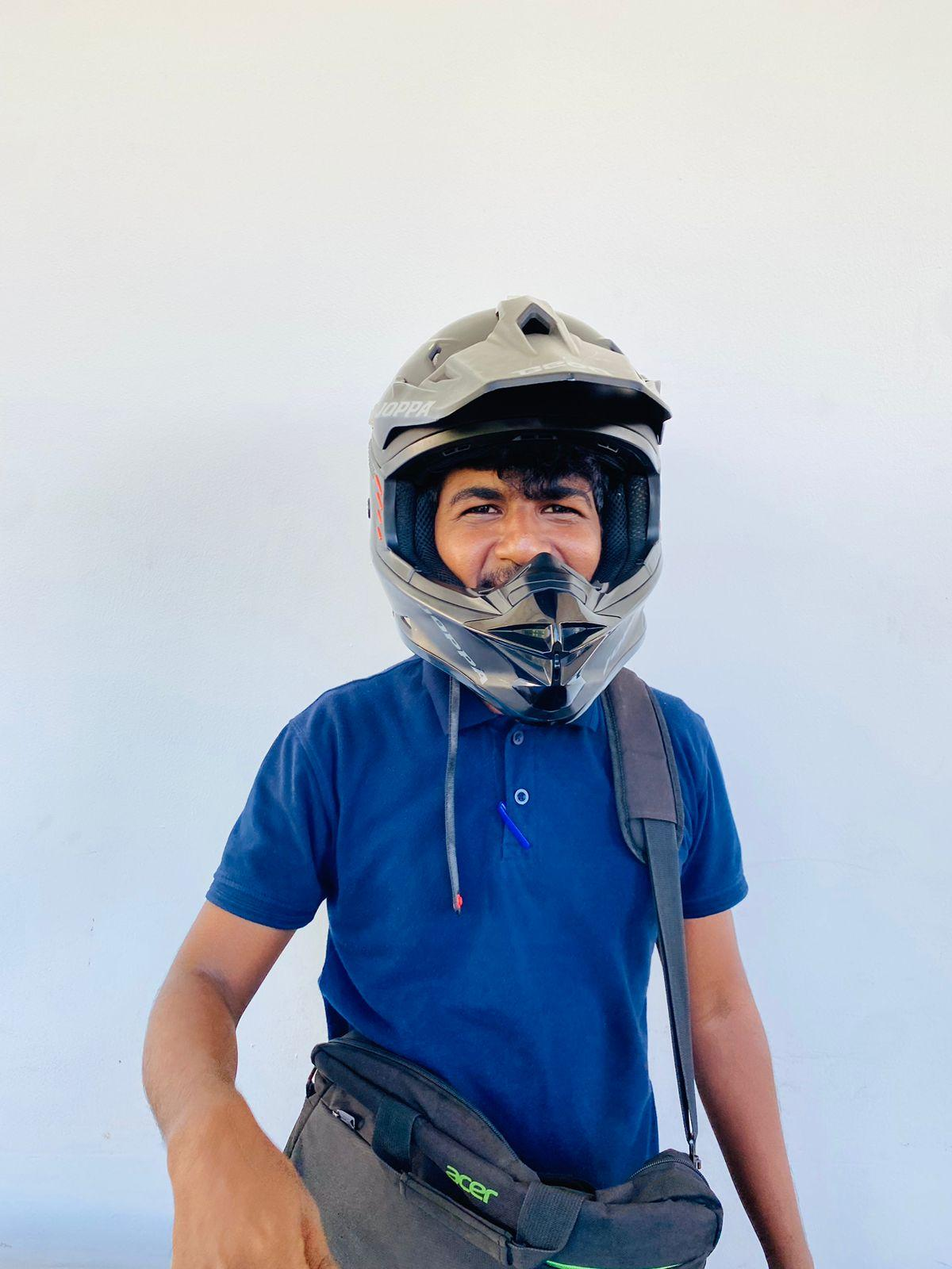helmet: (360, 281, 682, 732)
